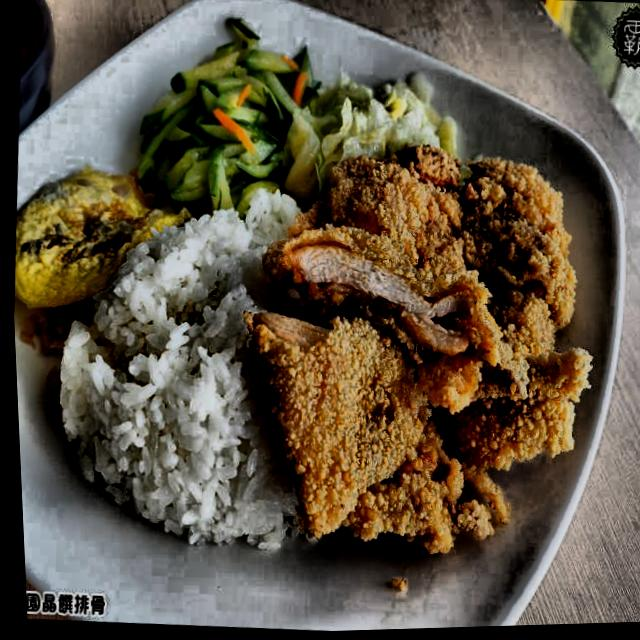Food: (95, 244, 252, 510)
